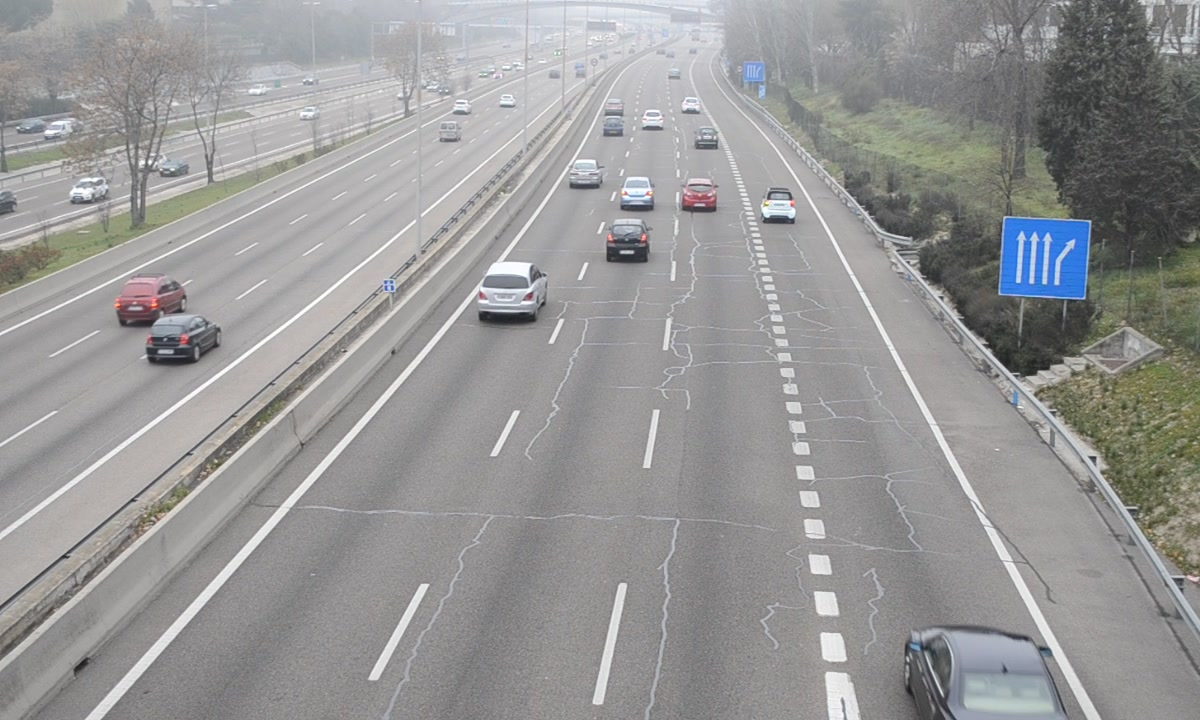car: (903, 623, 1067, 718), (473, 260, 548, 317), (605, 219, 652, 263), (762, 186, 797, 225), (683, 178, 719, 213), (620, 176, 655, 211), (568, 159, 604, 191), (694, 126, 721, 151), (639, 108, 665, 130), (601, 116, 625, 138)
